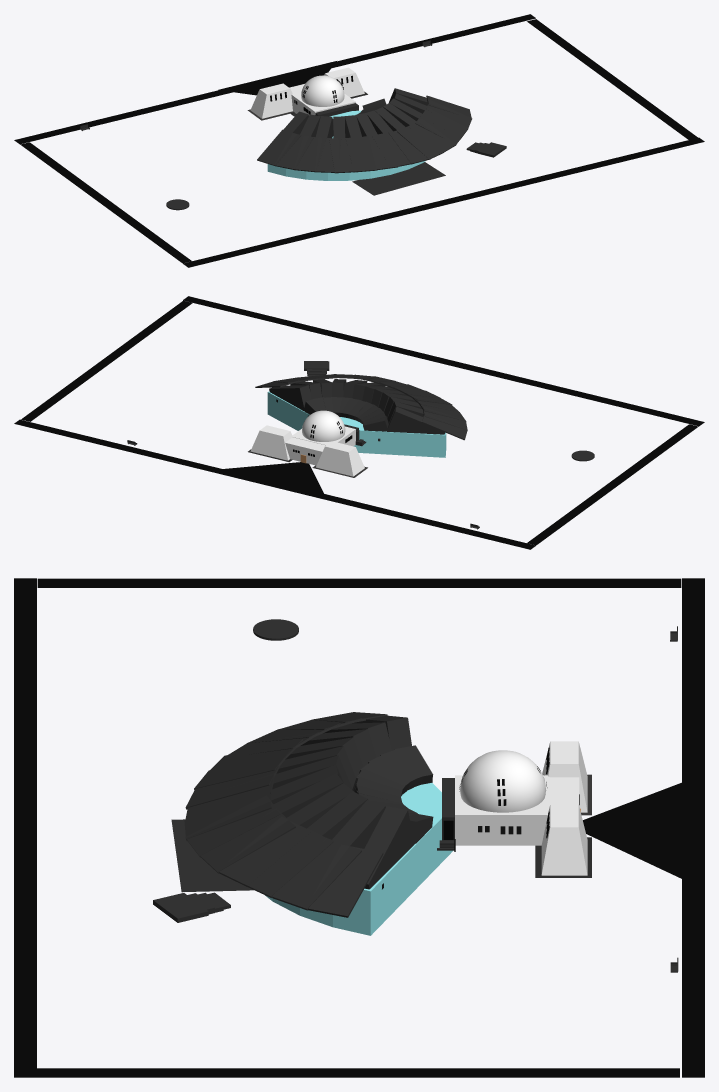
The model's file is asmundarsafn_cpy_to_test_6.obj.
The picture shows the model from 3 angles, top to bottom: view 1: azimuth 30°, elevation 25°; view 2: azimuth 150°, elevation 25°; view 3: azimuth 270°, elevation 25°; orthographic projection. The views are drawn at different scales.
Visible parts, largest first — view 1: Plane.028, Plane.027, Plane.030, Plane.029, Plane.035, syningarsalur, pavement, Sphere, h_hlid, Cube.049, Cube.050, Cube.048 (+12 smaller); view 2: Plane.028, syningarsalur, Plane.027, pavement, Plane.030, Plane.029, h_hlid, Cube.033, Sphere, v_hlid, Cube.031, adaldyr (+3 smaller); view 3: Plane.028, Plane.027, pavement, Plane.030, Plane.029, syningarsalur, Sphere, innanhus, v_hlid, Cube.031, Cube.047, Cube.055 (+25 smaller).
Boxes of the visible parts, bbox=[...] form: Plane.028: bbox=[183, 137, 704, 267]; Plane.027: bbox=[14, 14, 535, 144]; Plane.030: bbox=[20, 142, 191, 263]; Plane.029: bbox=[527, 19, 697, 139]; Plane.035: bbox=[352, 162, 445, 195]; syningarsalur: bbox=[267, 110, 425, 180]; pavement: bbox=[218, 61, 336, 95]; Sphere: bbox=[301, 75, 344, 106]; h_hlid: bbox=[250, 83, 292, 118]; Cube.049: bbox=[345, 136, 376, 172]; Cube.050: bbox=[364, 133, 398, 170]; Cube.048: bbox=[293, 136, 325, 172]; Plane.028: bbox=[183, 296, 704, 426]; syningarsalur: bbox=[267, 391, 446, 457]; Plane.027: bbox=[14, 419, 535, 549]; pavement: bbox=[207, 462, 326, 499]; Plane.030: bbox=[527, 424, 698, 545]; Plane.029: bbox=[21, 300, 192, 421]; h_hlid: bbox=[316, 441, 364, 476]; Cube.033: bbox=[363, 406, 445, 434]; Sphere: bbox=[302, 410, 345, 441]; v_hlid: bbox=[250, 425, 292, 460]; Cube.031: bbox=[269, 385, 322, 414]; adaldyr: bbox=[285, 437, 325, 465]; Plane.028: bbox=[14, 578, 36, 1077]; Plane.027: bbox=[682, 578, 704, 1077]; pavement: bbox=[583, 774, 704, 889]; Plane.030: bbox=[37, 578, 681, 587]; Plane.029: bbox=[37, 1068, 679, 1077]; syningarsalur: bbox=[265, 783, 452, 935]; Sphere: bbox=[460, 750, 545, 812]; innanhus: bbox=[455, 775, 549, 845]; v_hlid: bbox=[541, 804, 587, 875]; Cube.031: bbox=[364, 806, 433, 889]; Cube.047: bbox=[308, 844, 383, 917]; Cube.055: bbox=[272, 838, 361, 910].
Bounding box in the file's own units: 103 × 9.3 × 60.12.
